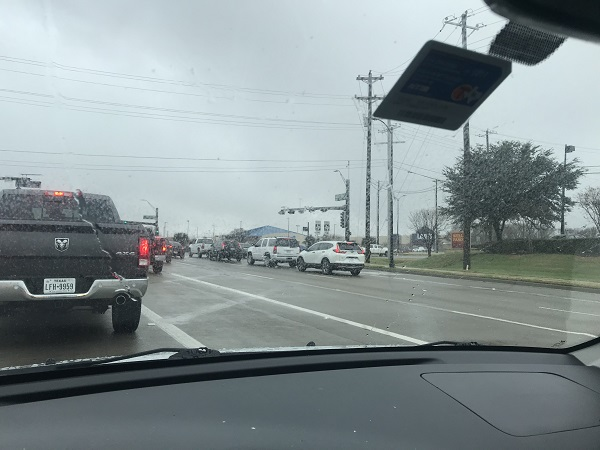car: (299, 241, 365, 274), (246, 235, 299, 267), (208, 239, 244, 261)
truck: (1, 185, 148, 336)
